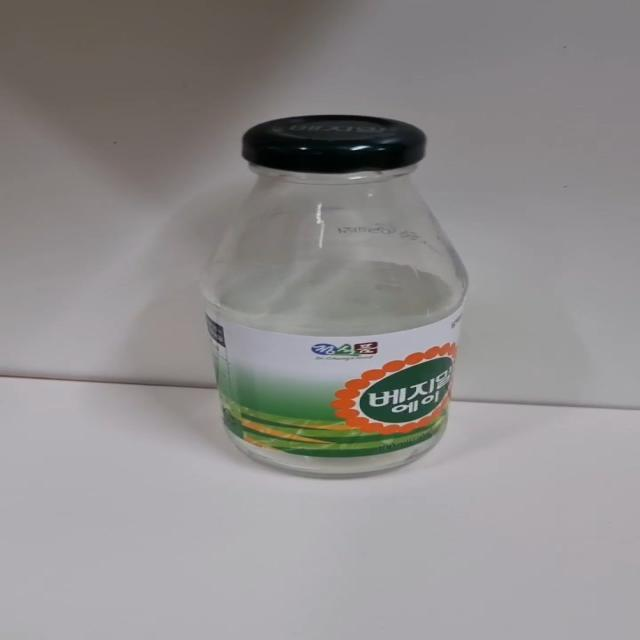Glass: (207, 111, 477, 484)
